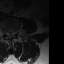CCS_severe_stenosis: (9, 31, 11, 39)
LFS_normal: (13, 29, 15, 36)
LLS_stenosis: (11, 31, 13, 38)
RFS_normal: (5, 30, 7, 36)
RLS_normal: (7, 31, 9, 38)
